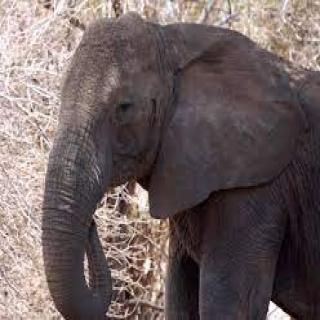Elephant: (33, 3, 320, 320)
